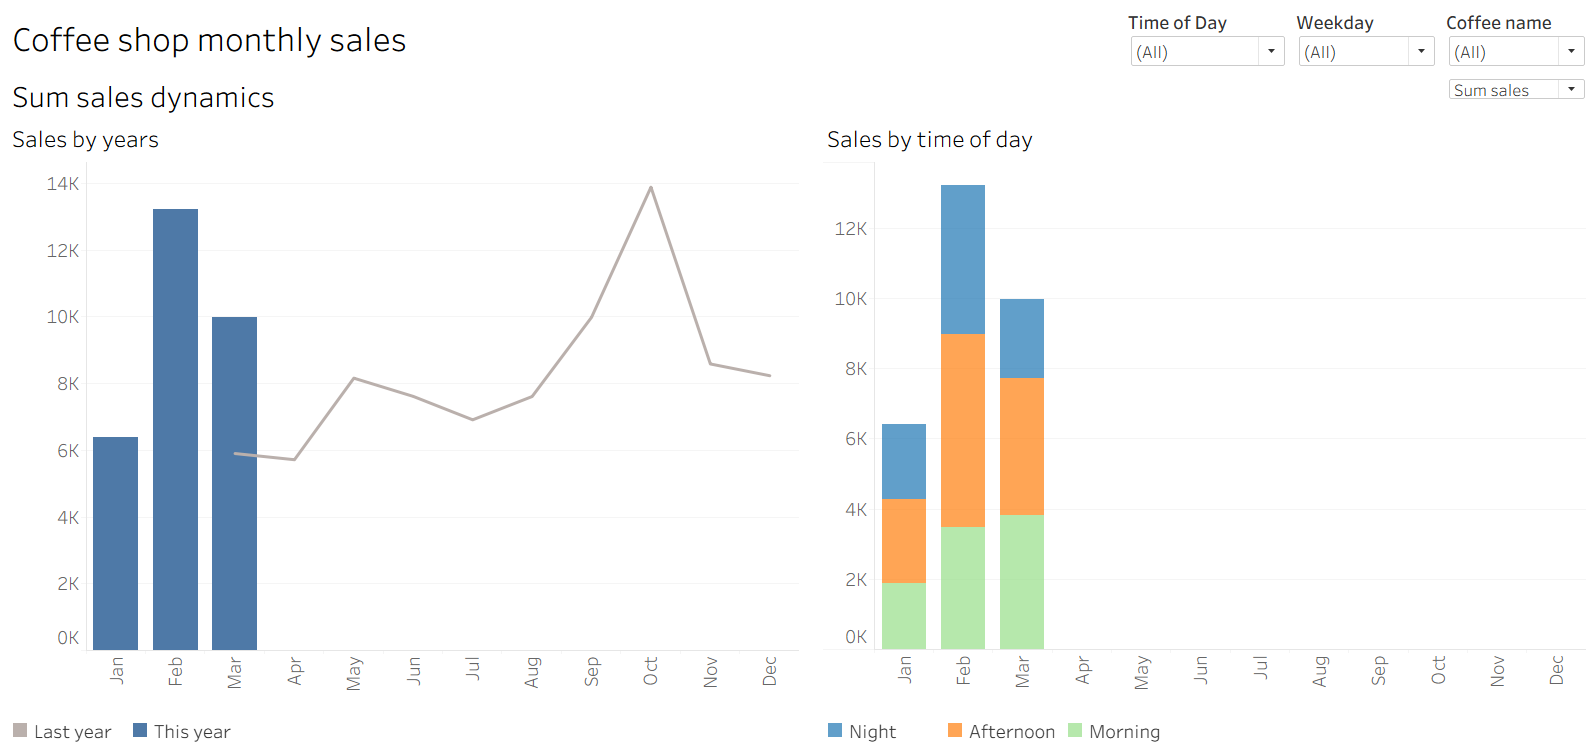

The page's visual inventory and layout, read from the dashboard file:
{"tool":"tableau","page":{"name":"Monthly dynamics","canvas":[1000,1000],"units":"permille","ordinal":1},"visuals":[{"type":"text","box":[5.5,10.6,669.4,88.4]},{"type":"filter","title":"Sum by month","param":"[federated.0eo47hy0bv3t661cgwpq90oafx3s].[none:Time_of_Day:nk]","box":[674.9,10.6,114.8,88.4]},{"type":"filter","title":"Sum by month","param":"[federated.0eo47hy0bv3t661cgwpq90oafx3s].[none:Weekday:nk]","box":[789.6,10.6,102.5,88.4]},{"type":"filter","title":"Sum by month","param":"[federated.0eo47hy0bv3t661cgwpq90oafx3s].[none:coffee_name:nk]","box":[892.1,10.6,102.5,88.4]},{"type":"text","box":[5.5,98.9,886.6,62]},{"type":"parameter","param":"[Parameters].[Parameter 2]","box":[892.1,98.9,102.5,62]},{"type":"text","box":[5.5,160.9,498.3,51.5]},{"type":"text","box":[514.7,160.9,479.9,51.5]},{"type":"worksheet","title":"Sum by month","mark":"Bar","rows":["Calculation_399413050691047424","TY_money (copy)_399413050691321857"],"cols":["Month_name"],"box":[5.5,212.4,498.3,733.5]},{"type":"worksheet","title":"Sum by month and time of day","mark":"Bar","rows":["Calculation_399413050691047424"],"cols":["Month_name"],"box":[514.7,212.4,479.9,733.5]},{"type":"legend","title":"Sum by month","param":"[federated.0eo47hy0bv3t661cgwpq90oafx3s].[:Measure Names]","box":[5.5,945.9,498.3,43.5]},{"type":"legend","title":"Sum by month and time of day","param":"[federated.0eo47hy0bv3t661cgwpq90oafx3s].[none:Time_of_Day:nk]","box":[514.7,945.9,479.9,43.5]}]}

Visuals, with their boxes on the dashboard's canvas, which has no fixed pixel size, in thousandths of its width and height (x1, y1, x2, y2). These are canvas units, not pixel positions in the 1591x754 screenshot, which may show the page scaled, cropped or inside an application window:
text: x1=6, y1=11, x2=675, y2=99
"Sum by month" filter: x1=675, y1=11, x2=790, y2=99
"Sum by month" filter: x1=790, y1=11, x2=892, y2=99
"Sum by month" filter: x1=892, y1=11, x2=995, y2=99
text: x1=6, y1=99, x2=892, y2=161
parameter: x1=892, y1=99, x2=995, y2=161
text: x1=6, y1=161, x2=504, y2=212
text: x1=515, y1=161, x2=995, y2=212
"Sum by month" worksheet (Bar marks): x1=6, y1=212, x2=504, y2=946
"Sum by month and time of day" worksheet (Bar marks): x1=515, y1=212, x2=995, y2=946
"Sum by month" legend: x1=6, y1=946, x2=504, y2=989
"Sum by month and time of day" legend: x1=515, y1=946, x2=995, y2=989
